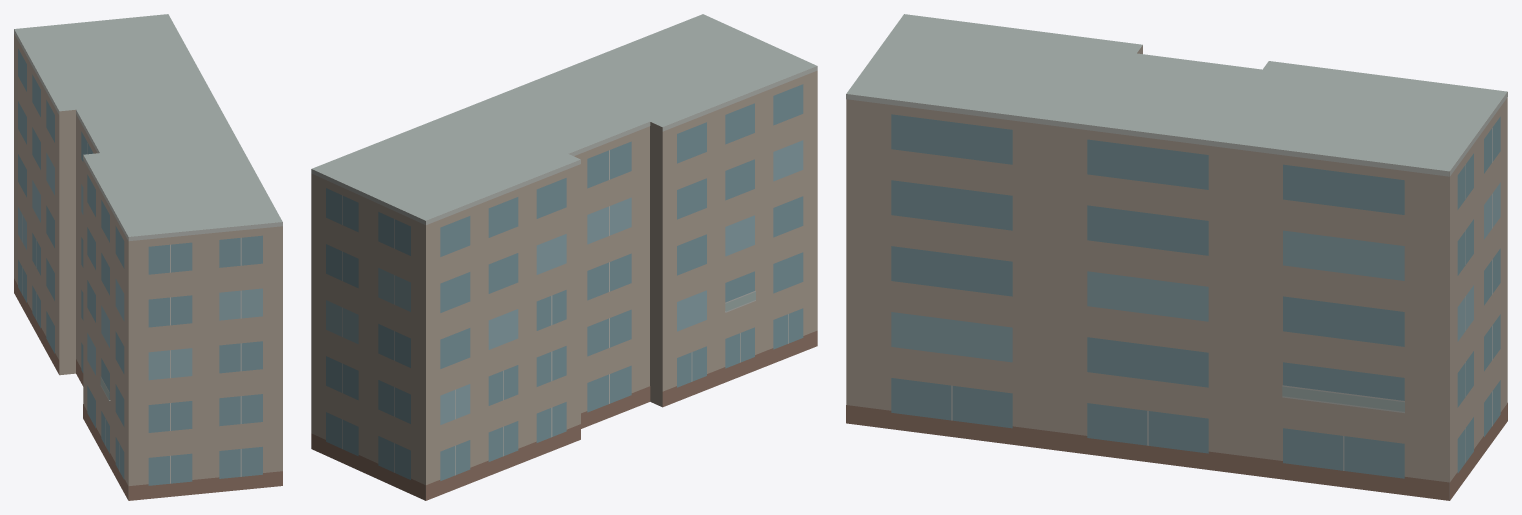
The model's file is survey-upis-32869929.glb.
3 views of the same model, side by side, from view 1: azimuth 30°, elevation 25°; view 2: azimuth 150°, elevation 25°; view 3: azimuth 270°, elevation 25° (orthographic). The views are drawn at different scales.
Parts seen in each view (by area): view 1: survey-upis-32869929.tmp; view 2: survey-upis-32869929.tmp; view 3: survey-upis-32869929.tmp.
Part boxes in pixels (box(x1,y1,x2,y2)): survey-upis-32869929.tmp: box(14, 14, 282, 500); survey-upis-32869929.tmp: box(311, 14, 817, 500); survey-upis-32869929.tmp: box(846, 14, 1507, 500).
Size of the model in its own units: 15.64 by 15.25 by 27.77.
